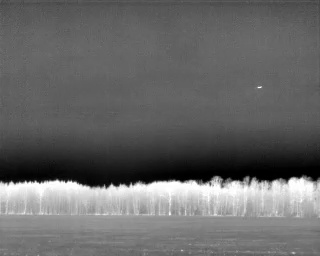DRONE: (254, 83, 265, 92)
